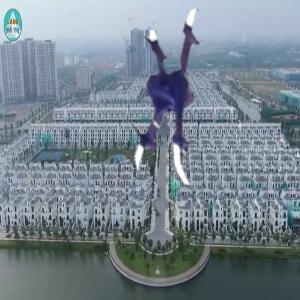drone: (100, 13, 277, 190)
